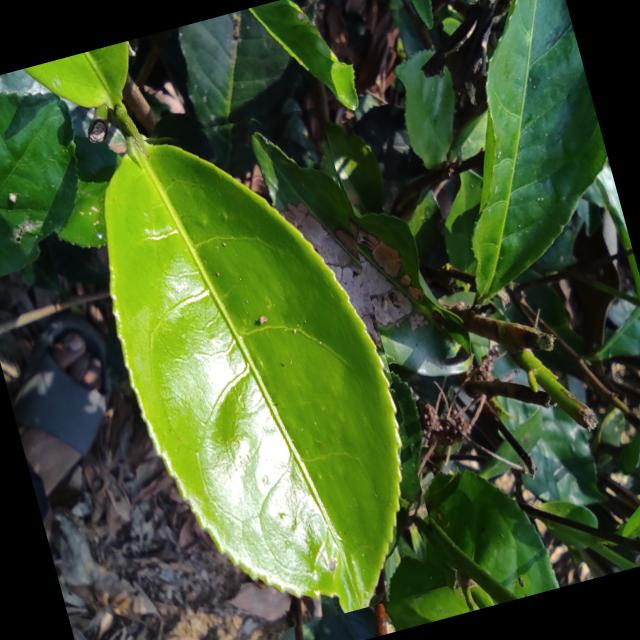Category B(2-4 days): (64, 87, 447, 640)
